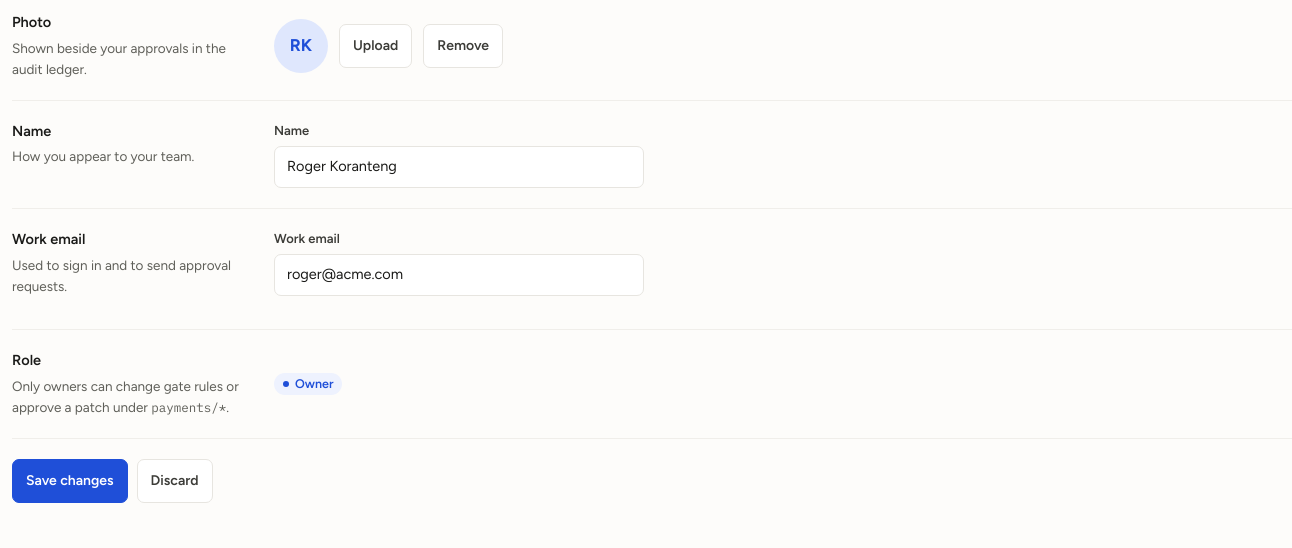
Test case: saving surfaces the server's own error, not a generic message
Click the button "Save changes": (70, 481) top-left (12, 459), bottom-right (128, 503)
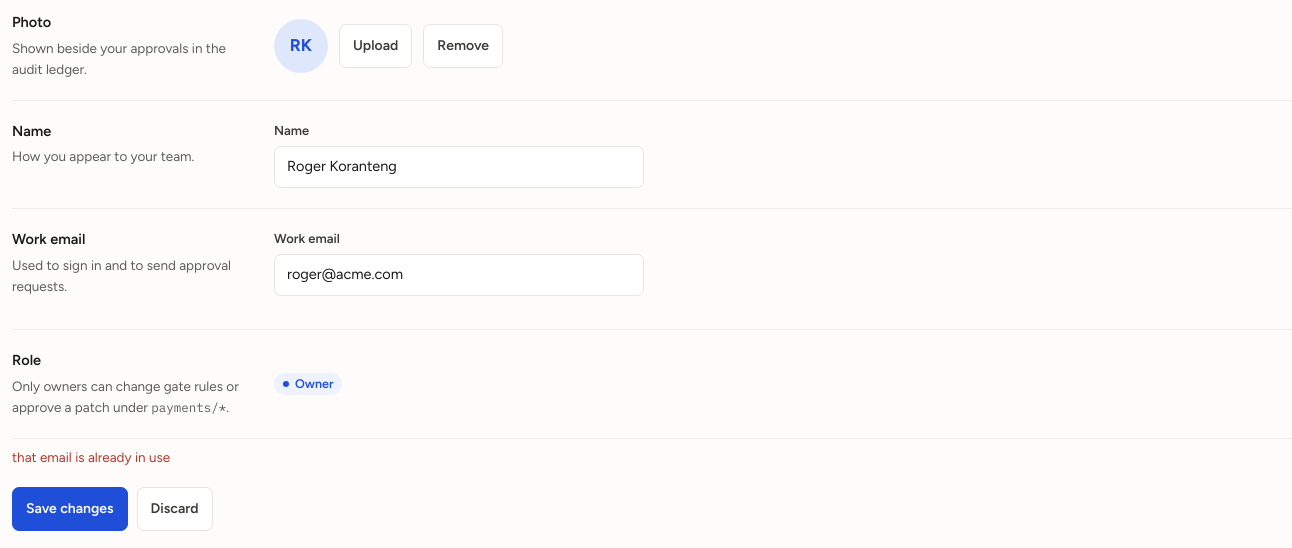
Result: the text "that email is already in use" is shown at top-left (12, 449), bottom-right (170, 465)
